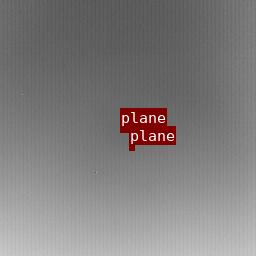plane: (120, 127, 134, 132), (129, 145, 134, 150)
